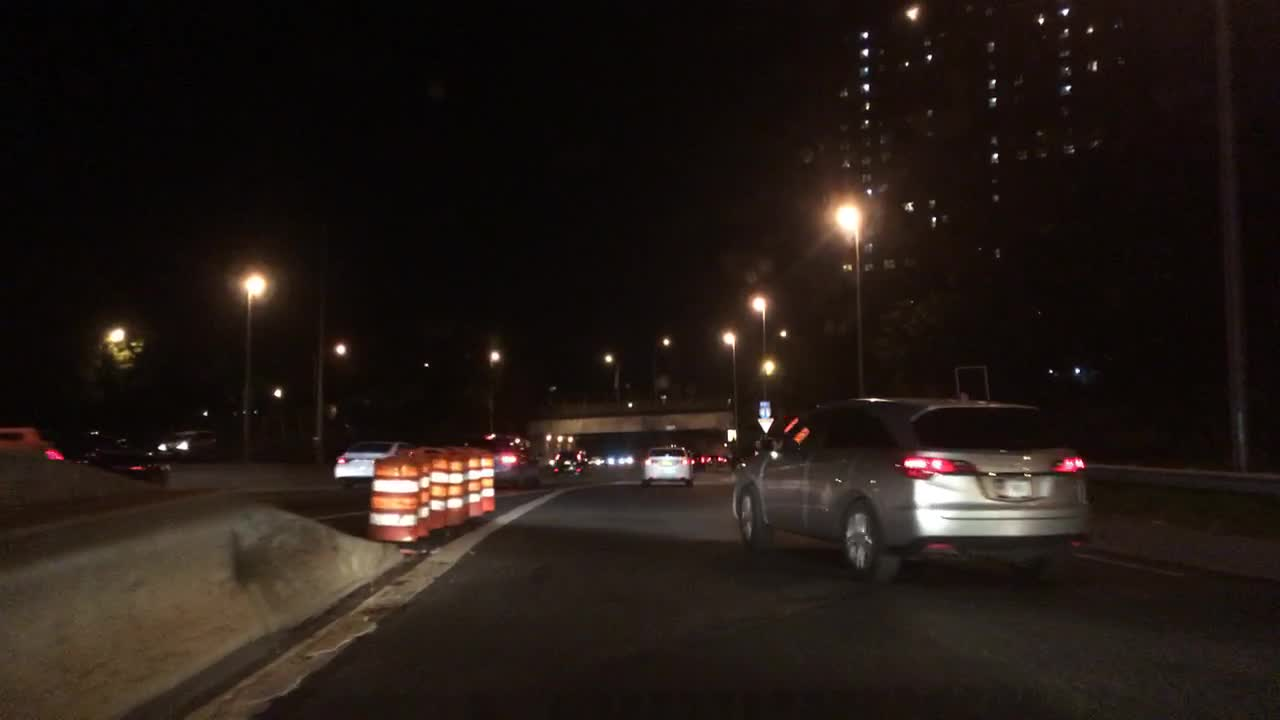car: (729, 393, 1100, 584), (69, 423, 172, 482), (331, 436, 418, 490), (464, 430, 537, 487), (0, 422, 66, 463), (638, 447, 693, 489), (154, 429, 218, 455), (546, 447, 587, 474), (691, 450, 714, 472)
traffic sign: (755, 396, 775, 435)
